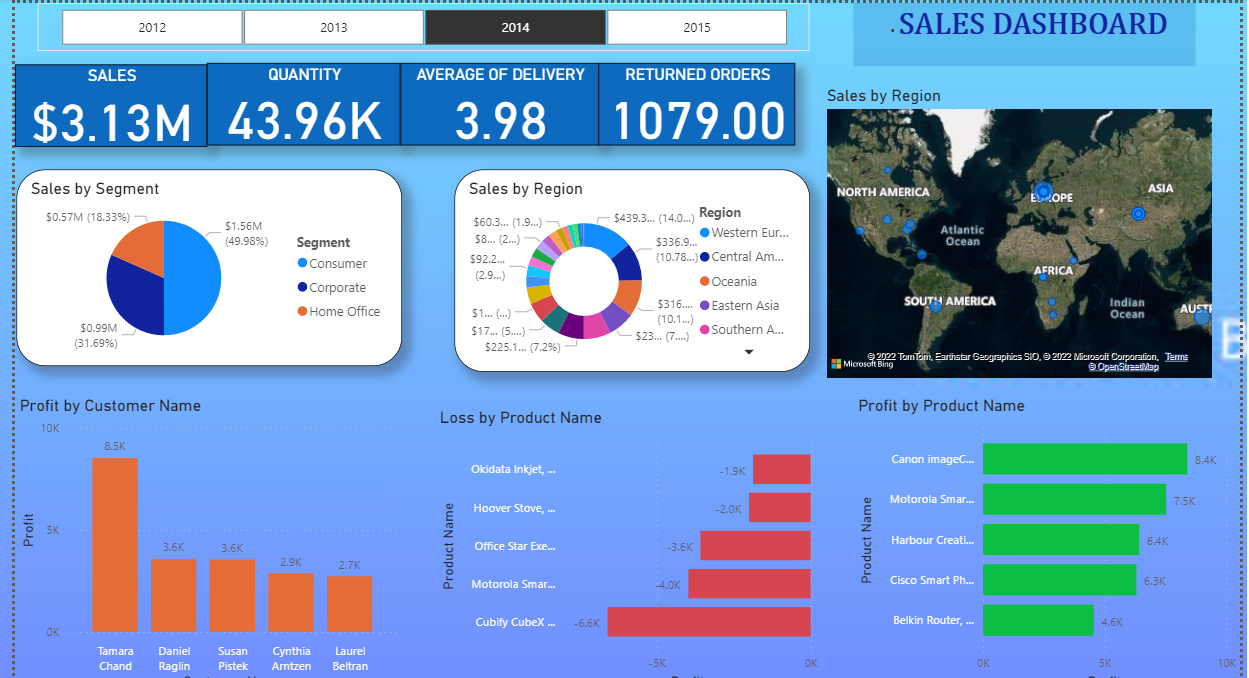

Layout of this report page (visuals, bound fields, positions):
{"tool":"powerbi","page":{"name":"Page 1","canvas":[1280,720],"ordinal":0},"visuals":[{"type":"card","title":"SALES","fields":{"Values":["Orders.Sales"]},"box":[0,64.2,200.5,86.2],"z":0},{"type":"card","title":"QUANTITY","fields":{"Values":["Orders.Quantity"]},"box":[200.6,63.1,202.2,85.8],"z":1000},{"type":"card","title":"AVERAGE OF DELIVERY","fields":{"Values":["Orders.Delivery"]},"box":[402.9,63.1,207.1,85.8],"z":2000},{"type":"slicer","fields":{"Values":["Orders.Year"]},"box":[23.5,0,806.9,50.1],"z":3000},{"type":"card","title":"RETURNED ORDERS","fields":{"Values":["Returns.Returned order"]},"box":[610,63.1,205.5,85.8],"z":4000},{"type":"map","fields":{"Category":["Orders.Region"],"Size":["Orders.Sales"]},"box":[842.9,86.2,412,310.2],"z":5000},{"type":"barChart","fields":{"Y":["Orders.Profit"],"Category":["Orders.Product Name"]},"box":[875.8,410.5,404.2,310.2],"z":6000},{"type":"barChart","title":"Loss by Product Name","fields":{"Y":["Orders.Profit"],"Category":["Orders.Product Name"]},"box":[438.7,423,404.2,297.7],"z":7000},{"type":"donutChart","fields":{"Y":["Orders.Sales"],"Category":["Orders.Region"]},"box":[459,173.9,371.3,211.5],"z":8000},{"type":"pieChart","fields":{"Category":["Orders.Segment"],"Y":["Orders.Sales"]},"box":[1.6,173.9,402.6,205.2],"z":9000},{"type":"columnChart","fields":{"Y":["Orders.Profit"],"Category":["Orders.Customer Name"]},"box":[0,410.5,404.2,310.2],"z":10000},{"type":"textbox","box":[875.8,0,357.2,65.8],"z":11000}]}

Visuals, with their boxes in screenshot pixels (x1, y1, x2, y2):
"SALES" card: crop(10, 62, 202, 144)
"QUANTITY" card: crop(202, 61, 397, 143)
"AVERAGE OF DELIVERY" card: crop(397, 61, 596, 143)
slicer - Orders.Year: crop(32, 0, 808, 48)
"RETURNED ORDERS" card: crop(596, 61, 793, 143)
map - Orders.Region x Orders.Sales: crop(820, 83, 1215, 381)
barChart - Orders.Profit x Orders.Product Name: crop(851, 394, 1239, 677)
"Loss by Product Name" barChart: crop(431, 406, 820, 677)
donutChart - Orders.Sales x Orders.Region: crop(451, 167, 807, 370)
pieChart - Orders.Segment x Orders.Sales: crop(11, 167, 398, 364)
columnChart - Orders.Profit x Orders.Customer Name: crop(10, 394, 398, 677)
textbox: crop(851, 0, 1194, 63)
